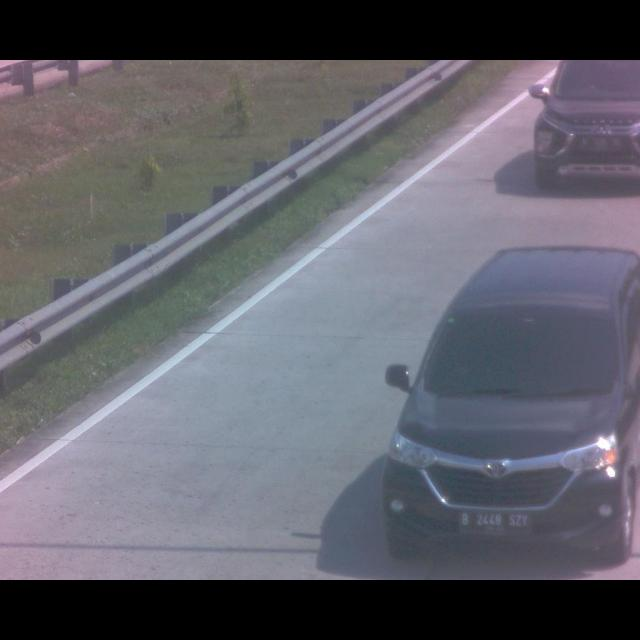plate: (458, 508, 532, 538)
